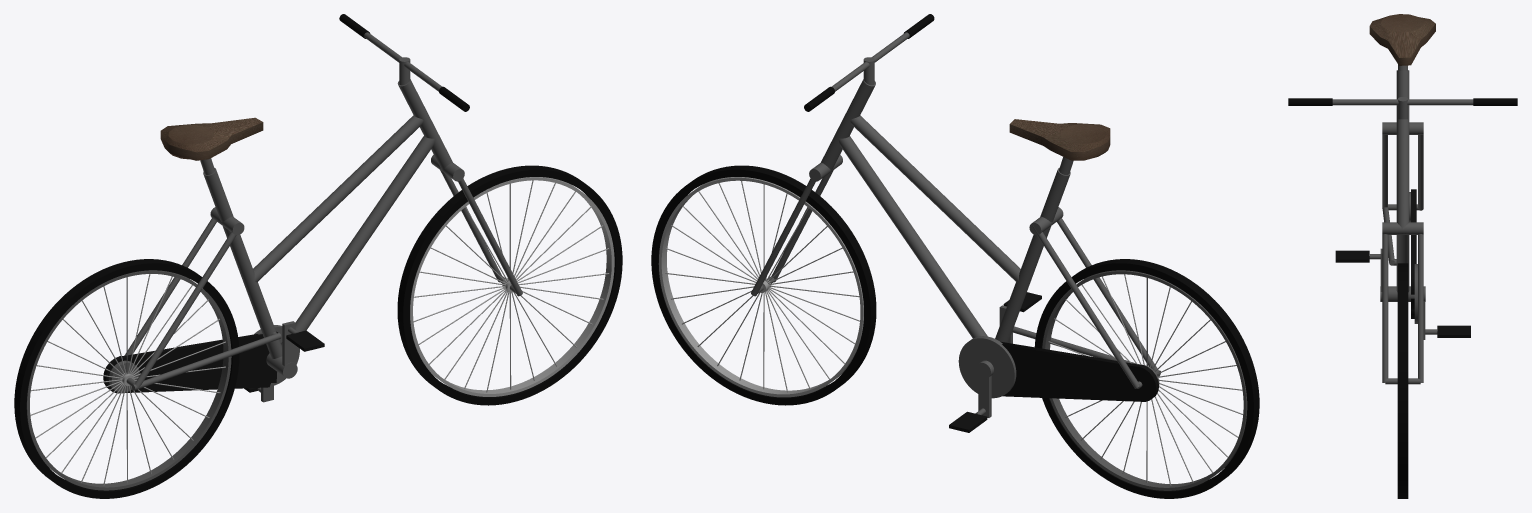
The model's file is fahrrad.FBX.
The picture shows the model from 3 angles, left to right: view 1: azimuth 30°, elevation 25°; view 2: azimuth 150°, elevation 25°; view 3: azimuth 270°, elevation 25°; orthographic projection. The views are drawn at different scales.
Visible parts, largest first — view 1: Tube001, Tube014, Tube011, Tube002, Tube015, Cylinder005, Cylinder006, sattel, Cylinder003, Cylinder022, Cylinder004, Cylinder030 (+3 smaller); view 2: Tube001, Tube014, Tube011, Tube002, Tube015, Cylinder005, Cylinder006, sattel, Tube012, Cylinder003, Cylinder008, Cylinder004 (+3 smaller); view 3: Tube001, sattel, Cylinder004, Cylinder018, Cylinder016, Tube011, Cylinder005, Cylinder013, Cylinder011, Cylinder008, Box004, Cylinder003 (+5 smaller).
Boxes of the visible parts, x1,y1,x2,y2 form: Tube001: (397, 165, 622, 405); Tube014: (14, 259, 239, 498); Tube011: (103, 331, 277, 393); Tube002: (410, 177, 614, 396); Tube015: (26, 270, 231, 490); Cylinder005: (281, 136, 435, 347); Cylinder006: (253, 115, 423, 282); sattel: (160, 117, 263, 160); Cylinder003: (203, 168, 282, 358); Cylinder022: (135, 232, 236, 388); Cylinder004: (397, 79, 452, 171); Cylinder030: (131, 333, 281, 390); Tube001: (651, 165, 876, 405); Tube014: (1034, 259, 1259, 498); Tube011: (1000, 341, 1158, 401); Tube002: (658, 177, 863, 397); Tube015: (1042, 270, 1247, 490); Cylinder005: (838, 136, 987, 338); Cylinder006: (850, 115, 1020, 282); sattel: (1009, 119, 1110, 160); Tube012: (958, 336, 1016, 398); Cylinder003: (995, 168, 1070, 342); Cylinder008: (1032, 225, 1139, 388); Cylinder004: (821, 79, 875, 171); Tube001: (1397, 263, 1408, 498); sattel: (1369, 14, 1435, 65); Cylinder004: (1396, 119, 1409, 229); Cylinder018: (1382, 234, 1388, 382); Cylinder016: (1418, 234, 1423, 382); Tube011: (1411, 189, 1416, 318); Cylinder005: (1396, 235, 1409, 292); Cylinder013: (1332, 99, 1398, 105); Cylinder011: (1407, 99, 1473, 105); Cylinder008: (1418, 135, 1423, 210); Box004: (1335, 250, 1369, 262); Cylinder003: (1396, 70, 1409, 119).
Bounding box in the file's own units: 306 × 178 × 108.
5 materials, 1 textured.
